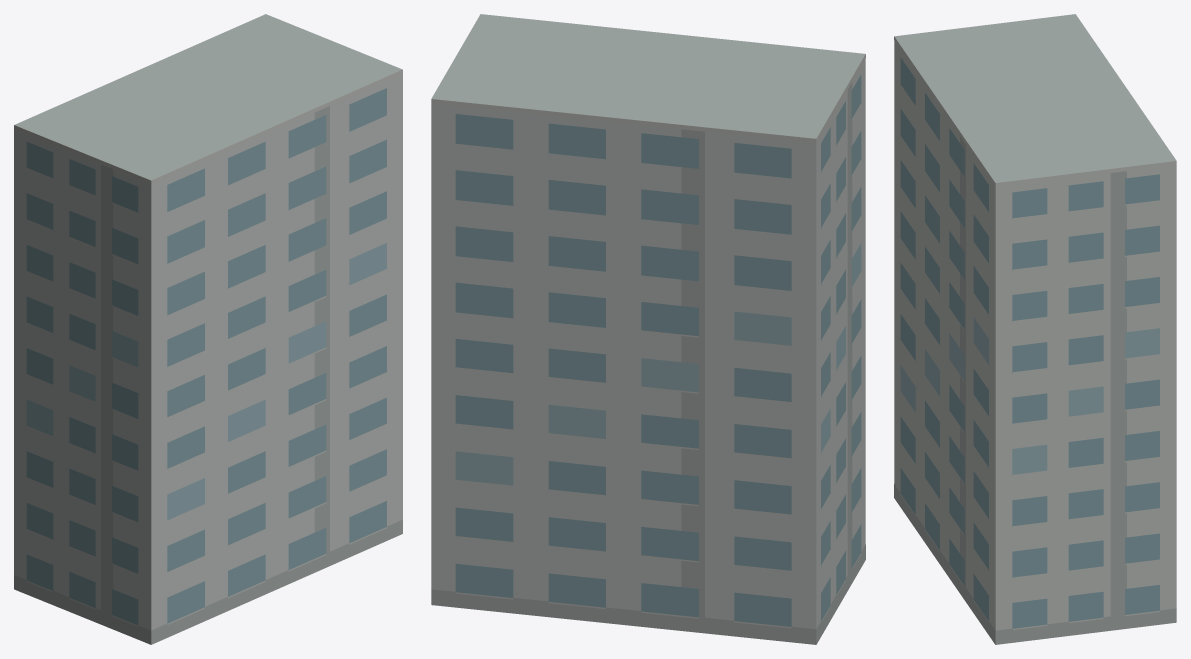
Rendered from residential-411e9ea5-8452-4455-bf08-9f9e9621fb9b.glb.
The picture shows the model from 3 angles, left to right: view 1: azimuth 30°, elevation 25°; view 2: azimuth 150°, elevation 25°; view 3: azimuth 270°, elevation 25°; orthographic projection. The views are drawn at different scales.
Visible parts, largest first — view 1: residential-411e9ea5-8452-4455-bf08-9f9e9621fb9b.tmp; view 2: residential-411e9ea5-8452-4455-bf08-9f9e9621fb9b.tmp; view 3: residential-411e9ea5-8452-4455-bf08-9f9e9621fb9b.tmp.
Boxes of the visible parts, x1,y1,x2,y2 form: residential-411e9ea5-8452-4455-bf08-9f9e9621fb9b.tmp: [14, 14, 402, 644]; residential-411e9ea5-8452-4455-bf08-9f9e9621fb9b.tmp: [431, 14, 865, 644]; residential-411e9ea5-8452-4455-bf08-9f9e9621fb9b.tmp: [894, 14, 1176, 644].
Size of the model in its own units: 21.57 by 27.45 by 15.23.
